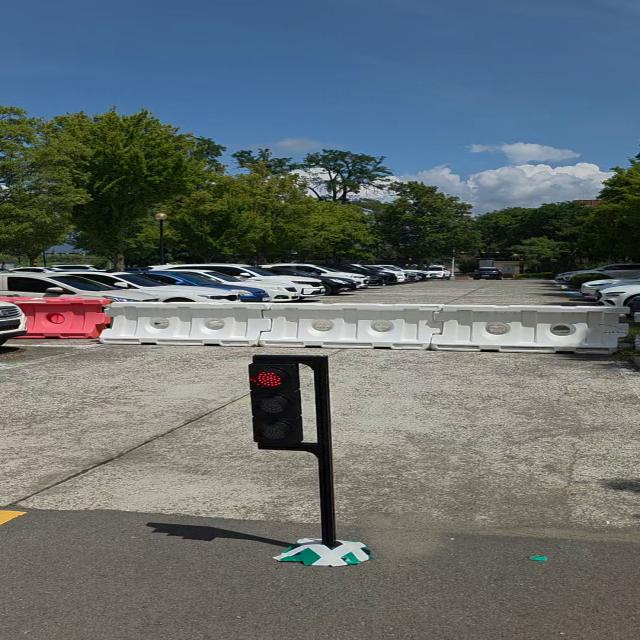red: (243, 358, 307, 448)
